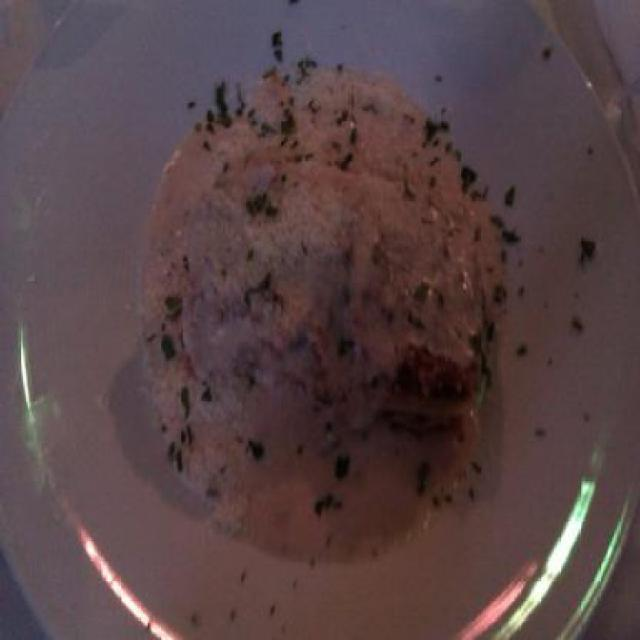Lasagna: (179, 126, 510, 437)
